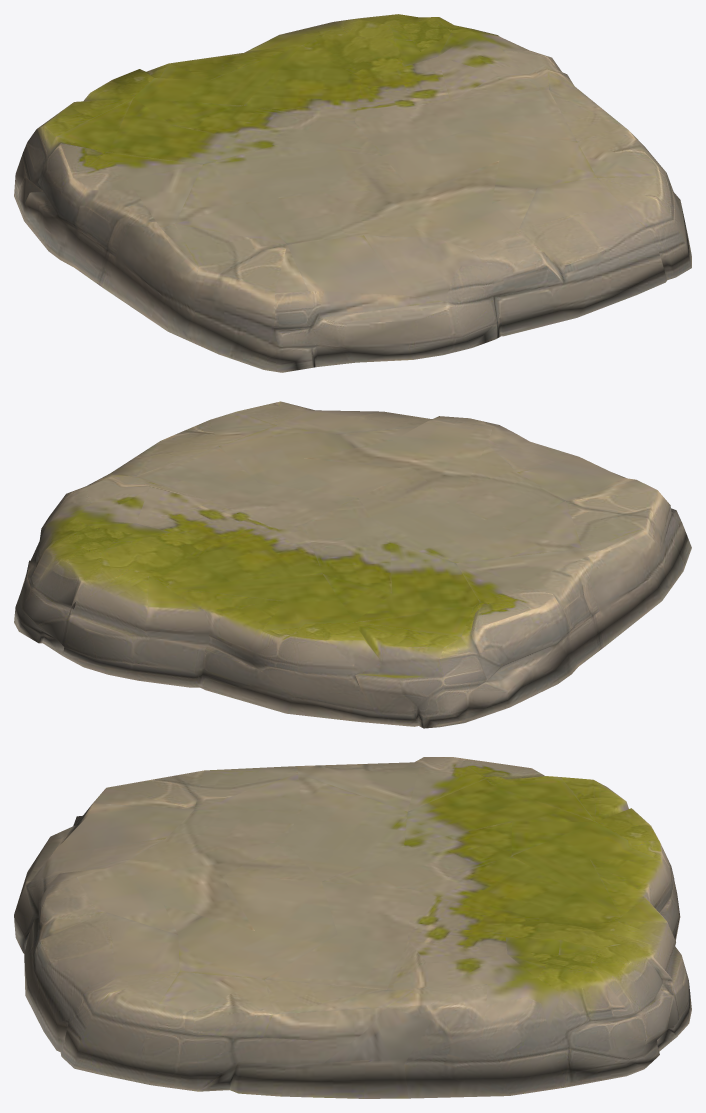
Rendered from boulder_c.glb.
The picture shows the model from 3 angles, top to bottom: view 1: azimuth 30°, elevation 25°; view 2: azimuth 150°, elevation 25°; view 3: azimuth 270°, elevation 25°; orthographic projection. The views are drawn at different scales.
Parts seen in each view (by area): view 1: boulder_c; view 2: boulder_c; view 3: boulder_c.
Boxes of the visible parts, box(x1,y1,x2,y2) form: boulder_c: box(14, 14, 691, 372); boulder_c: box(14, 401, 691, 728); boulder_c: box(14, 757, 691, 1098).
Size of the model in its own units: 0.9671 by 0.1472 by 1.
1 material, 1 textured.
